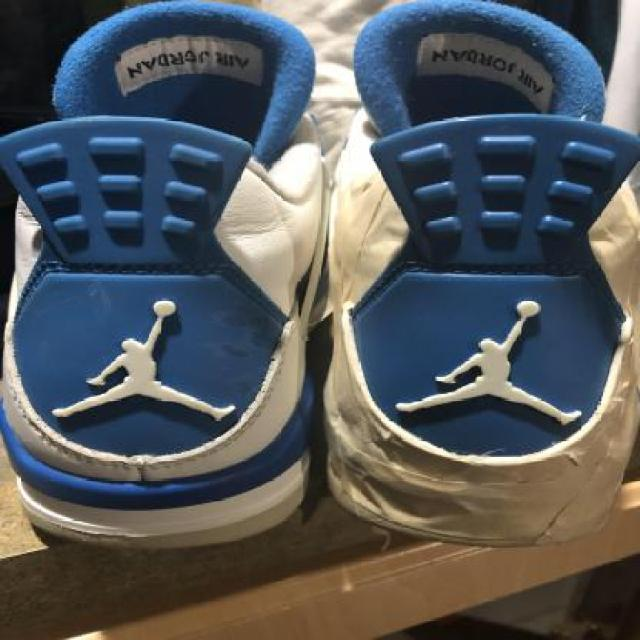shoe: (0, 0, 338, 566), (317, 0, 638, 566)
